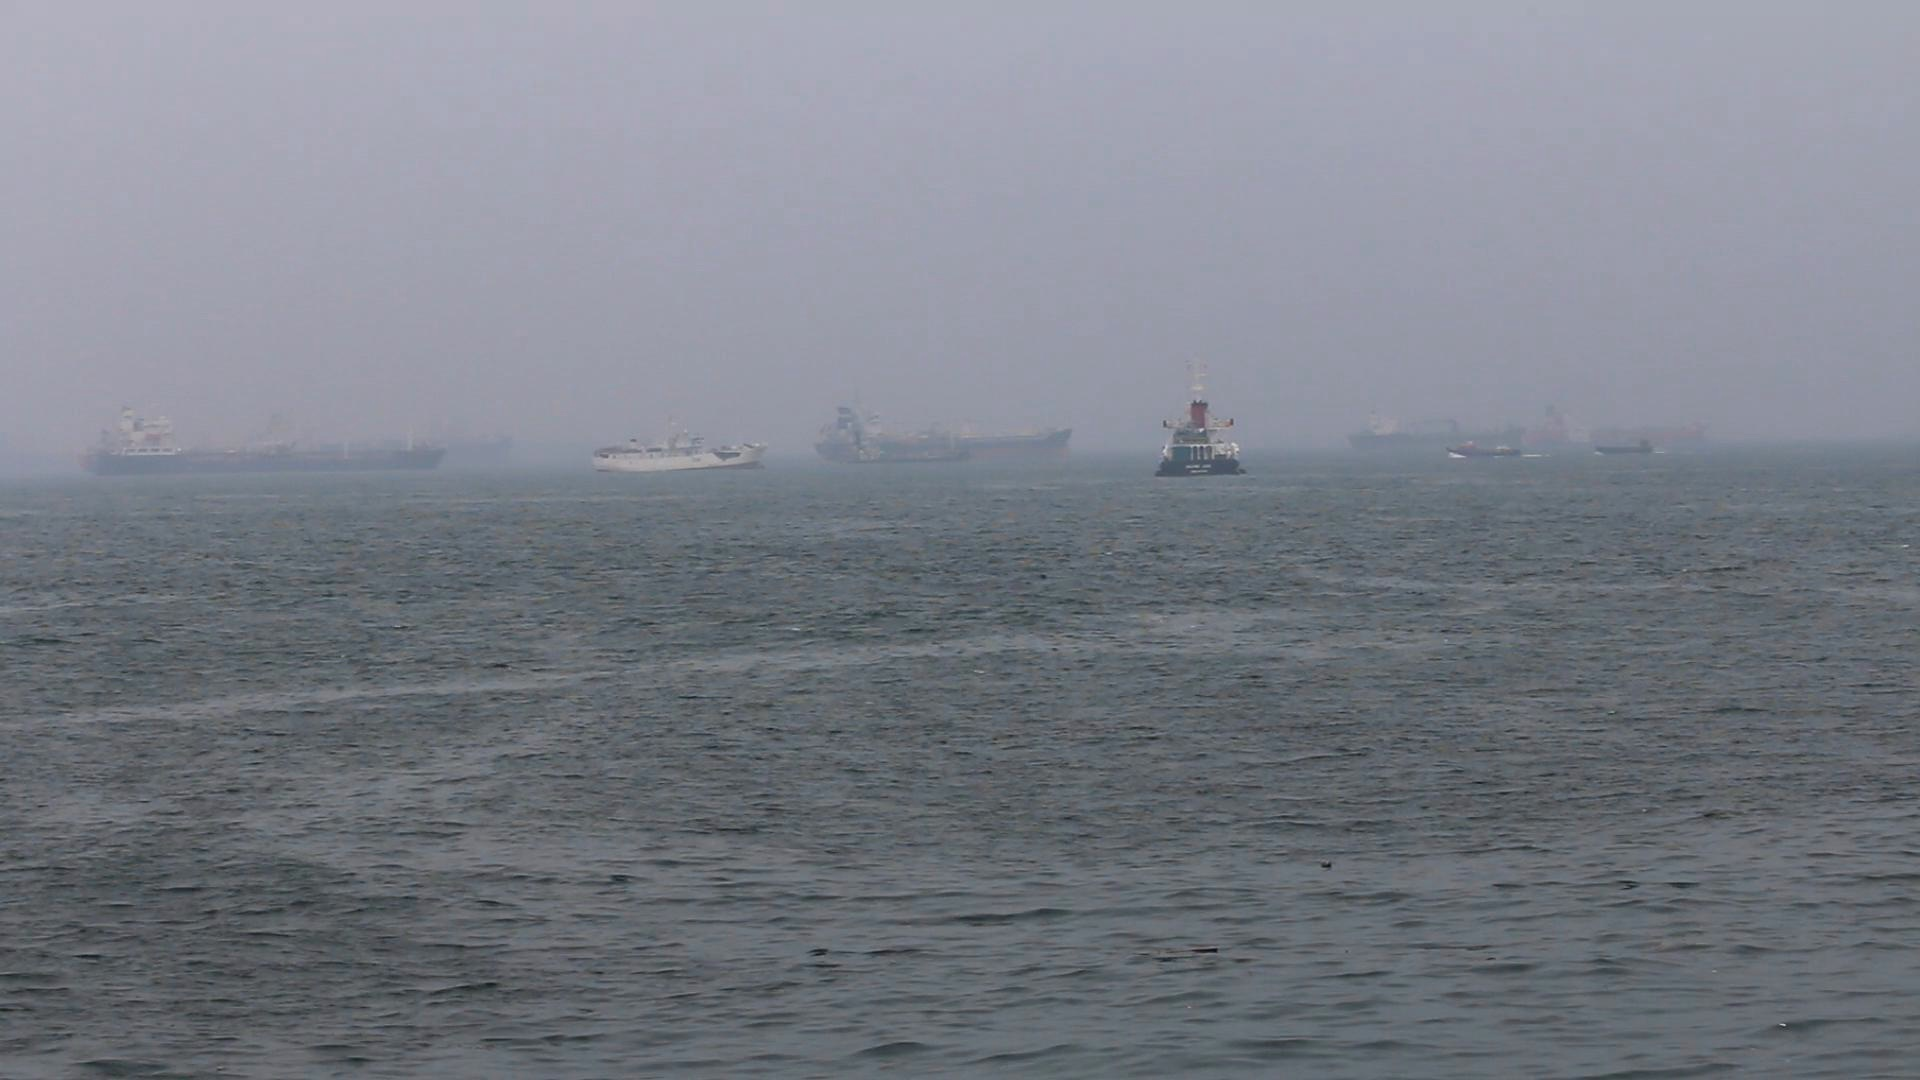Container Ship: (84, 402, 447, 471), (818, 406, 1077, 467), (1156, 360, 1246, 481), (587, 429, 771, 475), (1344, 415, 1551, 446)
